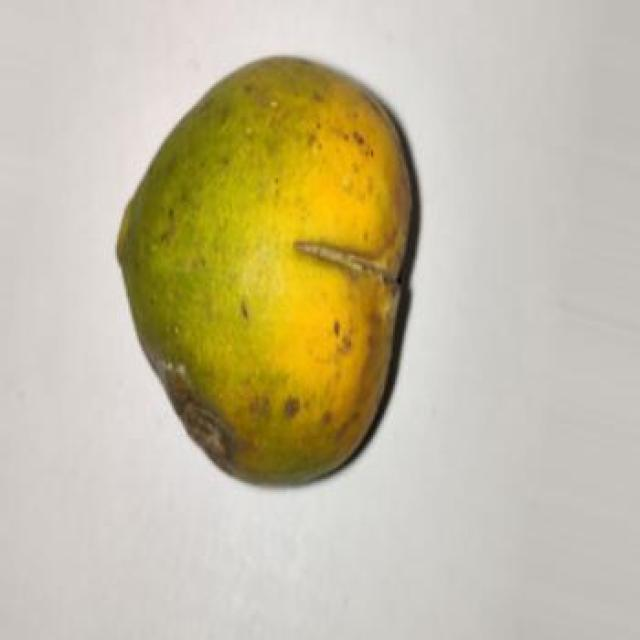damaged: (115, 55, 421, 490)
